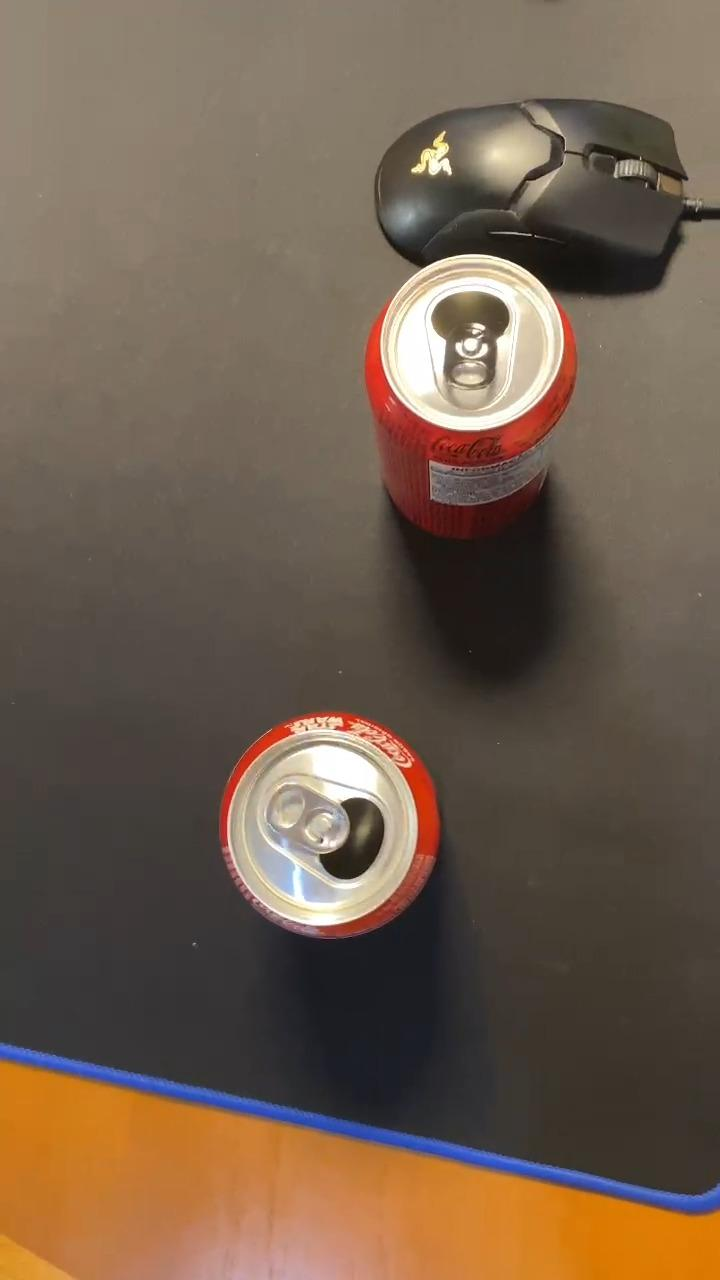coke: (365, 254, 577, 539), (217, 710, 446, 941)
